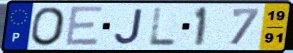1: (191, 5, 209, 48)
7: (230, 7, 262, 47)
E: (64, 5, 106, 48)
J: (113, 8, 145, 46)
L: (147, 6, 179, 47)
O: (30, 5, 68, 47)
